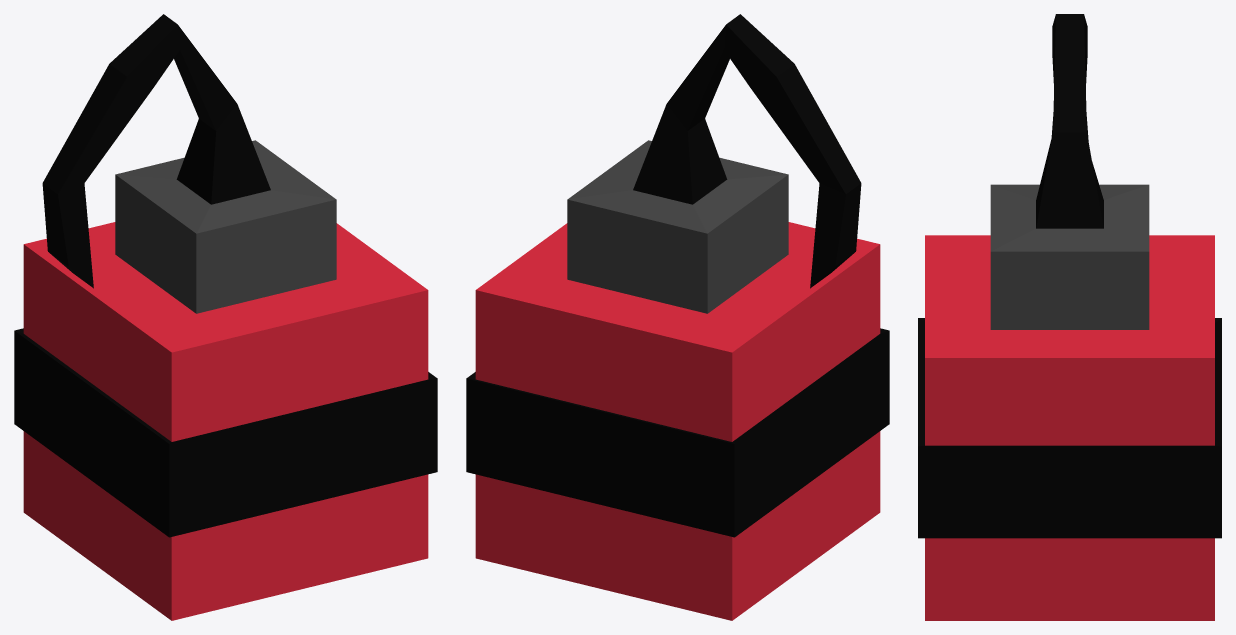
File: bombes.glb
The picture shows the model from 3 angles, left to right: view 1: azimuth 30°, elevation 25°; view 2: azimuth 150°, elevation 25°; view 3: azimuth 270°, elevation 25°; orthographic projection. The views are drawn at different scales.
Visible parts, largest first — view 1: Cube; view 2: Cube; view 3: Cube.
Part boxes in pixels (bbox=[...]): Cube: bbox=[14, 14, 437, 620]; Cube: bbox=[466, 14, 889, 620]; Cube: bbox=[918, 14, 1221, 620].
Size of the model in its own units: 0.3484 by 0.5854 by 0.3017.
